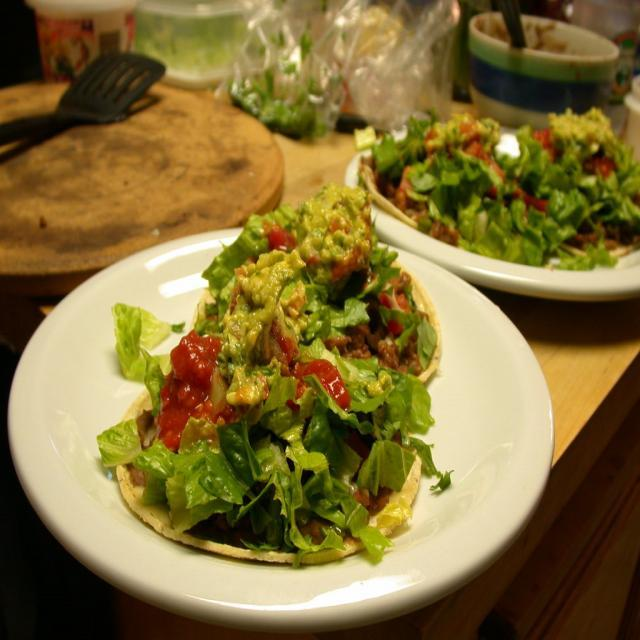Salad: (92, 170, 456, 558), (366, 106, 622, 264), (530, 103, 640, 231)
